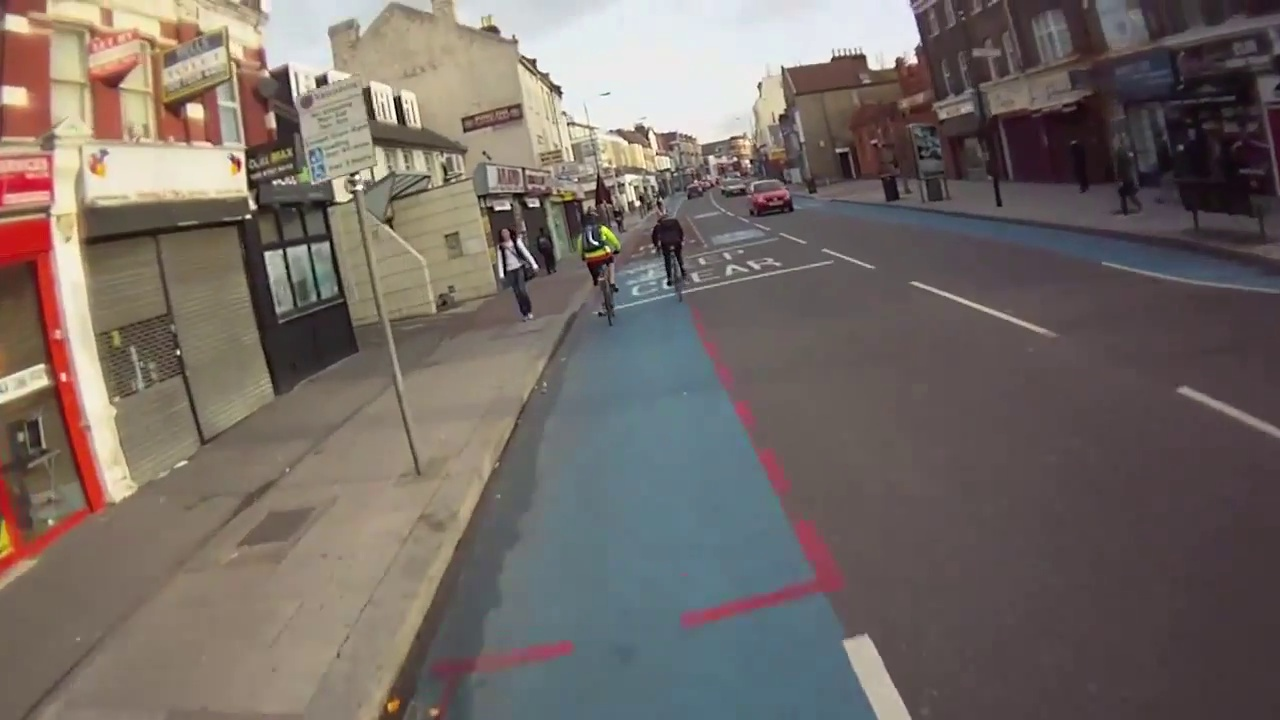cyclist_back: (573, 217, 630, 327), (650, 214, 686, 298)
